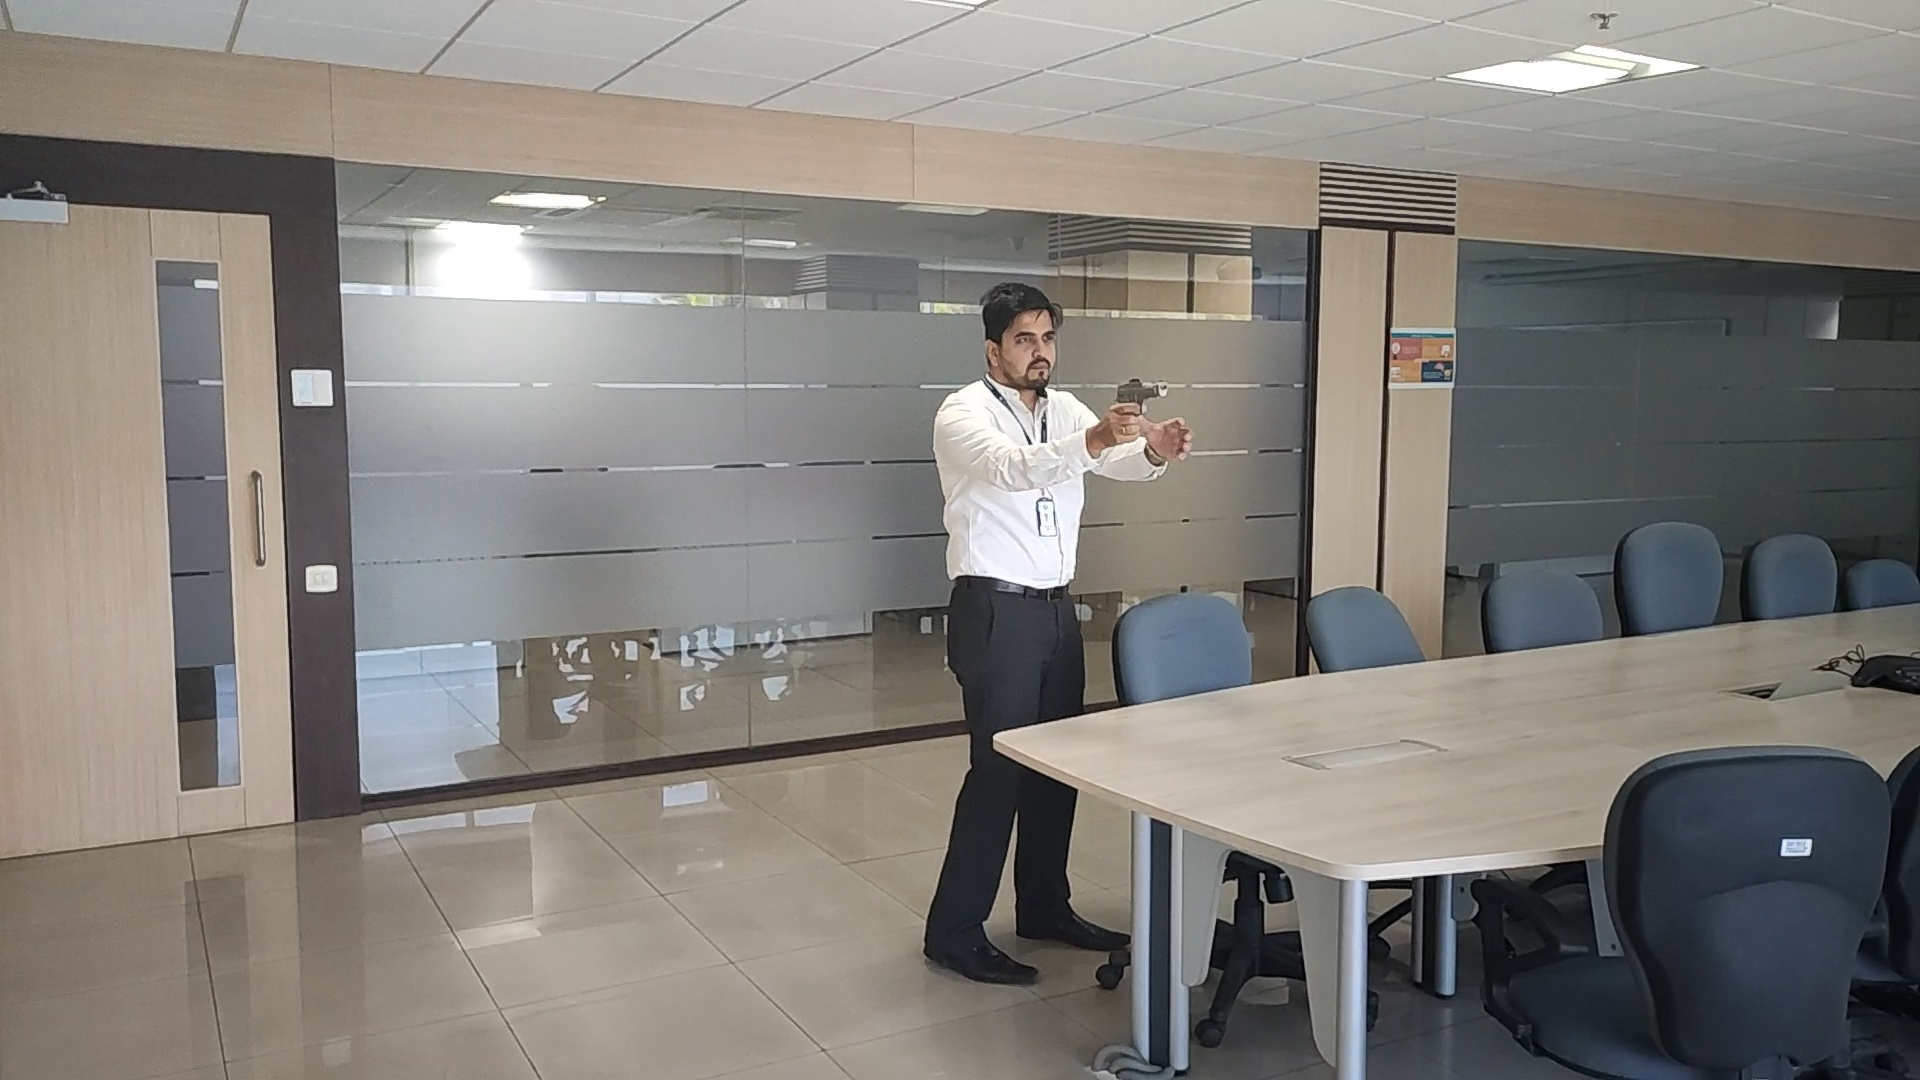gun: (1113, 377, 1168, 407)
